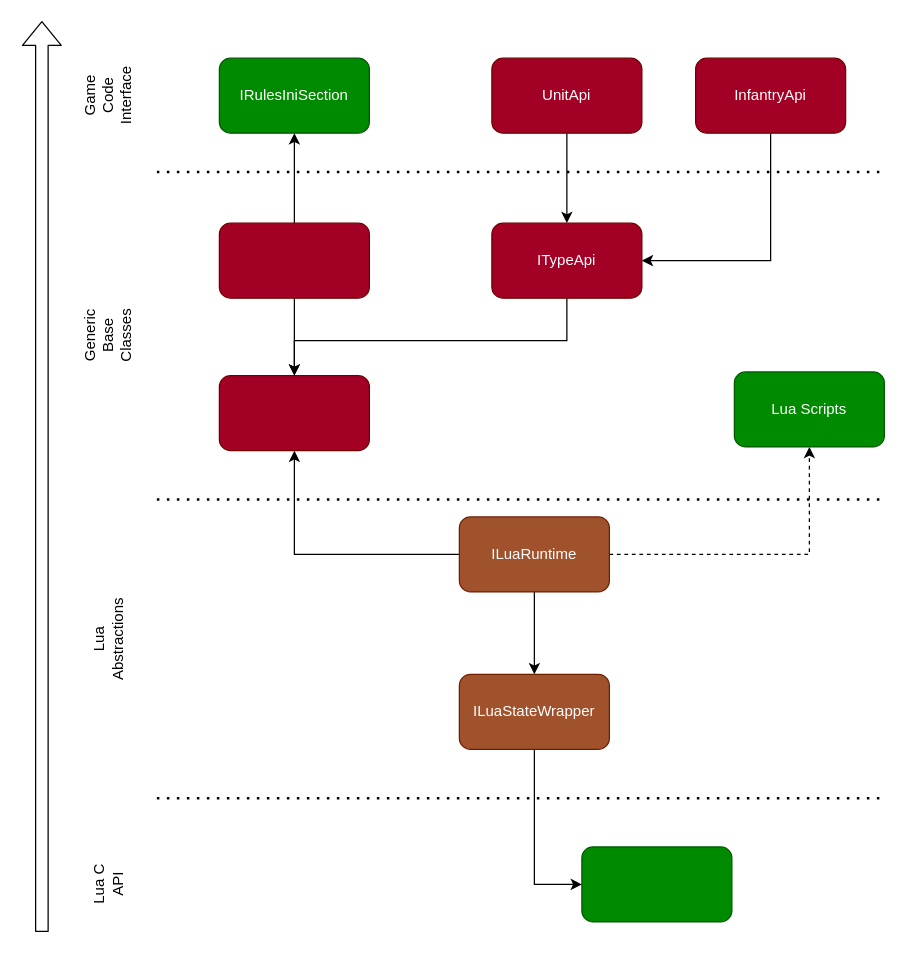
Image size: 908x954. Some labels were removed from this diagram. The centre of each missing label's shape, as x and y in pixels:
"ILuaApi" belongs at pixel 293 412.
"IRulesApi" belongs at pixel 293 260.
"LuaState" belongs at pixel 656 884.
